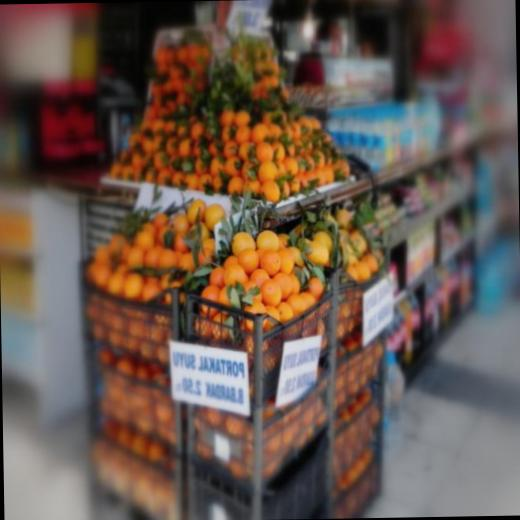Grape: (208, 264, 224, 292)
